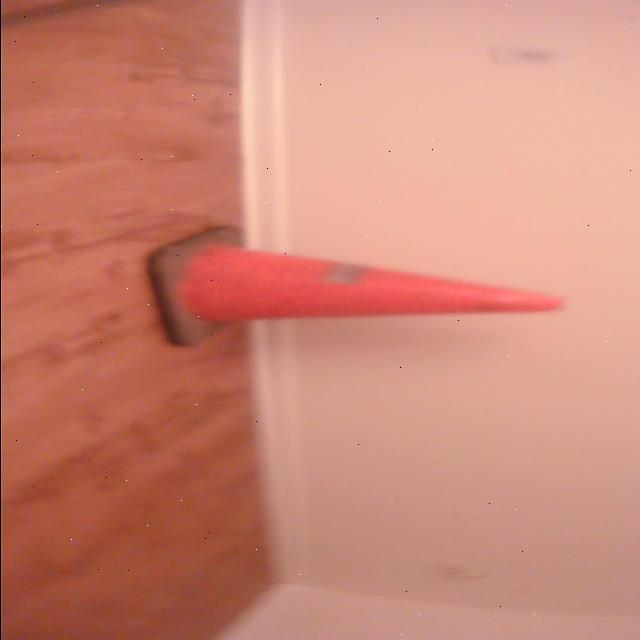traffic cone: (142, 219, 575, 354)
